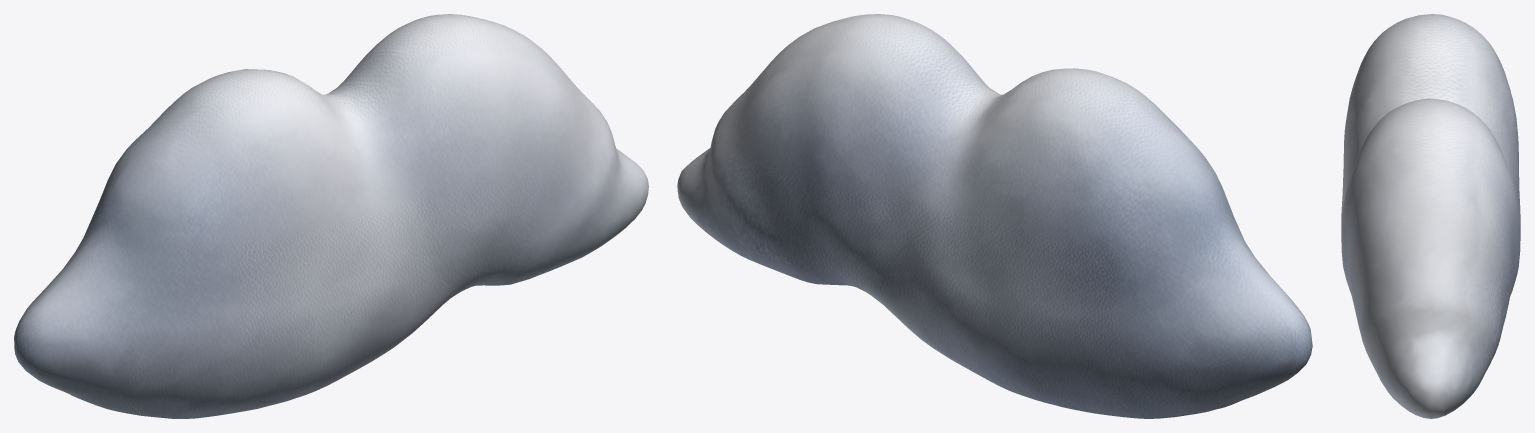
The model's file is PR_SnowSoft_Twin.fbx.
The picture shows the model from 3 angles, left to right: view 1: azimuth 30°, elevation 25°; view 2: azimuth 150°, elevation 25°; view 3: azimuth 270°, elevation 25°; orthographic projection. The views are drawn at different scales.
Parts seen in each view (by area): view 1: texture_mapping; view 2: texture_mapping; view 3: texture_mapping.
Part boxes in pixels (<box>): texture_mapping: <box>14,14,648,418</box>; texture_mapping: <box>677,14,1312,418</box>; texture_mapping: <box>1341,14,1520,418</box>.
Size of the model in its own units: 1 by 0.2636 by 0.5063.
Materials: 1 (1 with a texture image).
